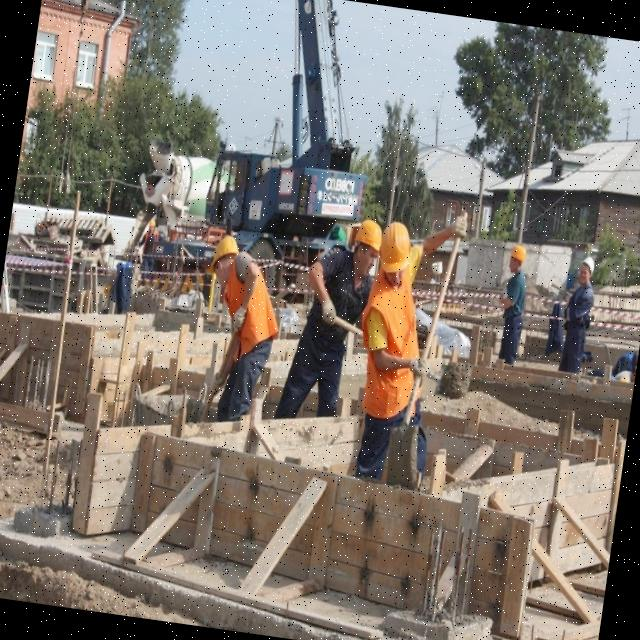Helmet: (376, 221, 421, 282), (208, 237, 242, 278), (354, 220, 386, 257), (579, 256, 599, 280), (508, 244, 529, 266)
Jacket: (364, 278, 425, 419), (216, 262, 275, 359)
NoJacket: (301, 253, 373, 365), (502, 267, 530, 327), (566, 282, 594, 341)
